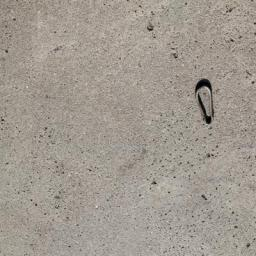FOD: (191, 76, 219, 127)
